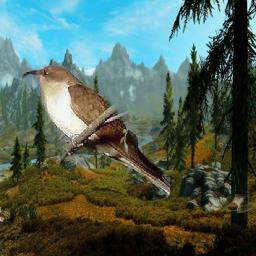Cuckoo: (22, 66, 170, 195)
Swallow: (227, 195, 254, 214)
